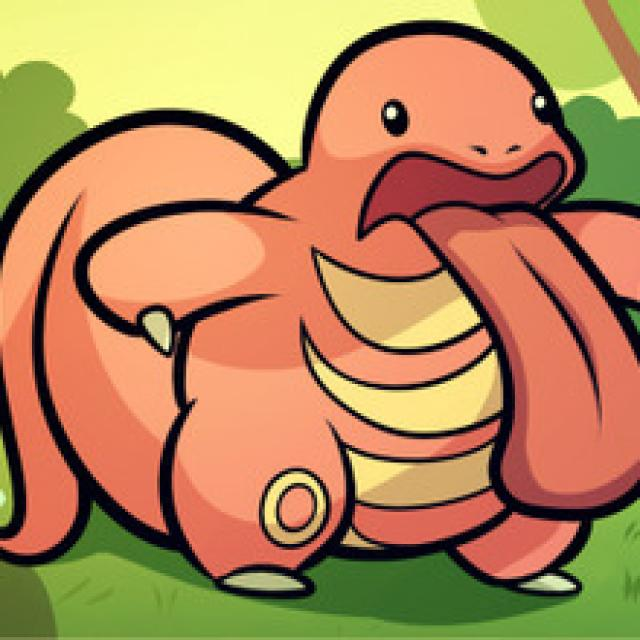Lickitung: (0, 20, 640, 604)
